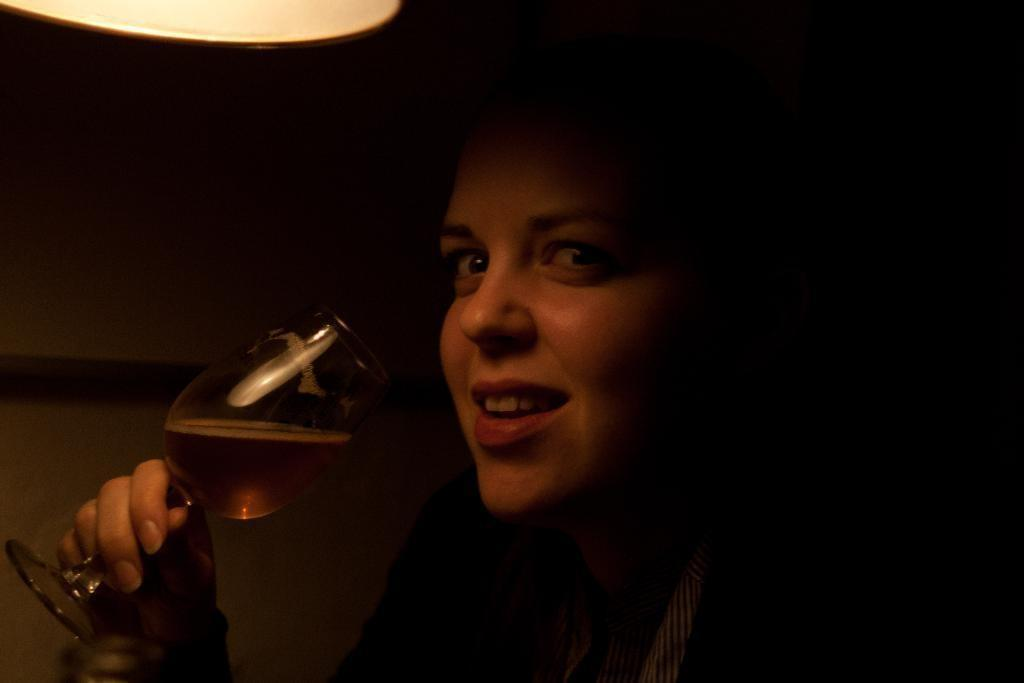glass-wine: (4, 308, 384, 656)
